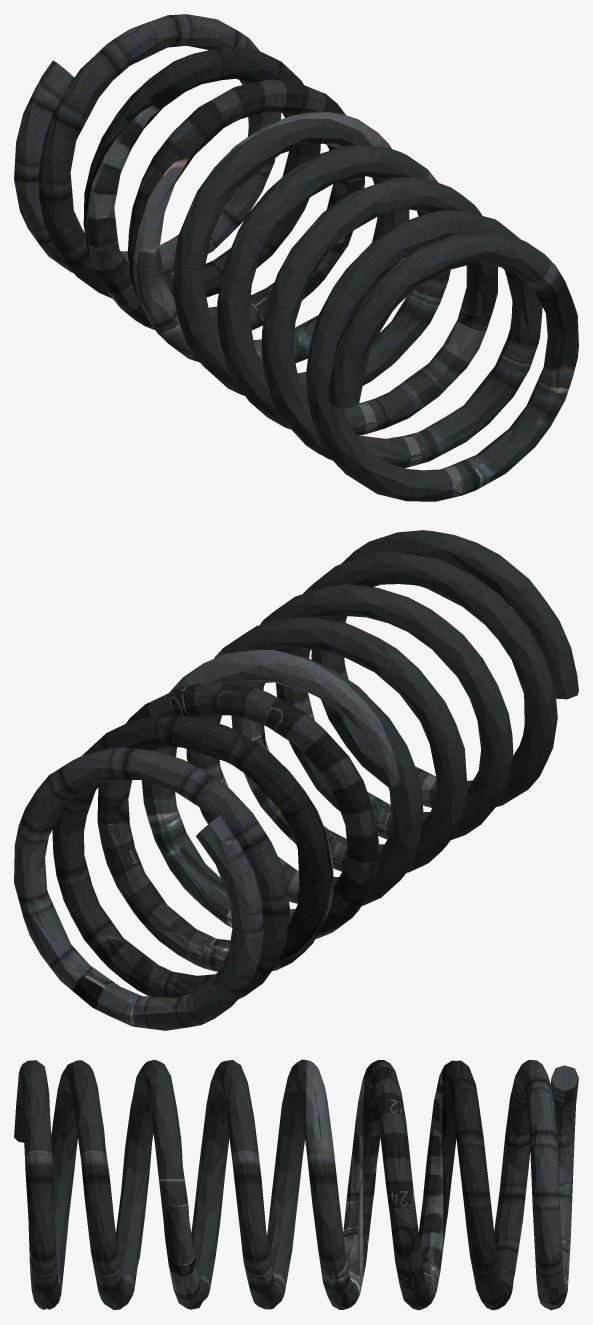
The model's file is Trigger_Guard_Detent_Springf.dae.
The picture shows the model from 3 angles, top to bottom: view 1: azimuth 30°, elevation 25°; view 2: azimuth 150°, elevation 25°; view 3: azimuth 270°, elevation 25°; orthographic projection. The views are drawn at different scales.
Parts seen in each view (by area): view 1: Trigger_Guard_Detent_Springf; view 2: Trigger_Guard_Detent_Springf; view 3: Trigger_Guard_Detent_Springf.
Boxes of the visible parts, x1,y1,x2,y2 form: Trigger_Guard_Detent_Springf: [14, 14, 578, 501]; Trigger_Guard_Detent_Springf: [14, 530, 578, 1030]; Trigger_Guard_Detent_Springf: [14, 1059, 578, 1310].
Size of the model in its own units: 0.00359 by 0.00807 by 0.00359.
1 material, 1 textured.
